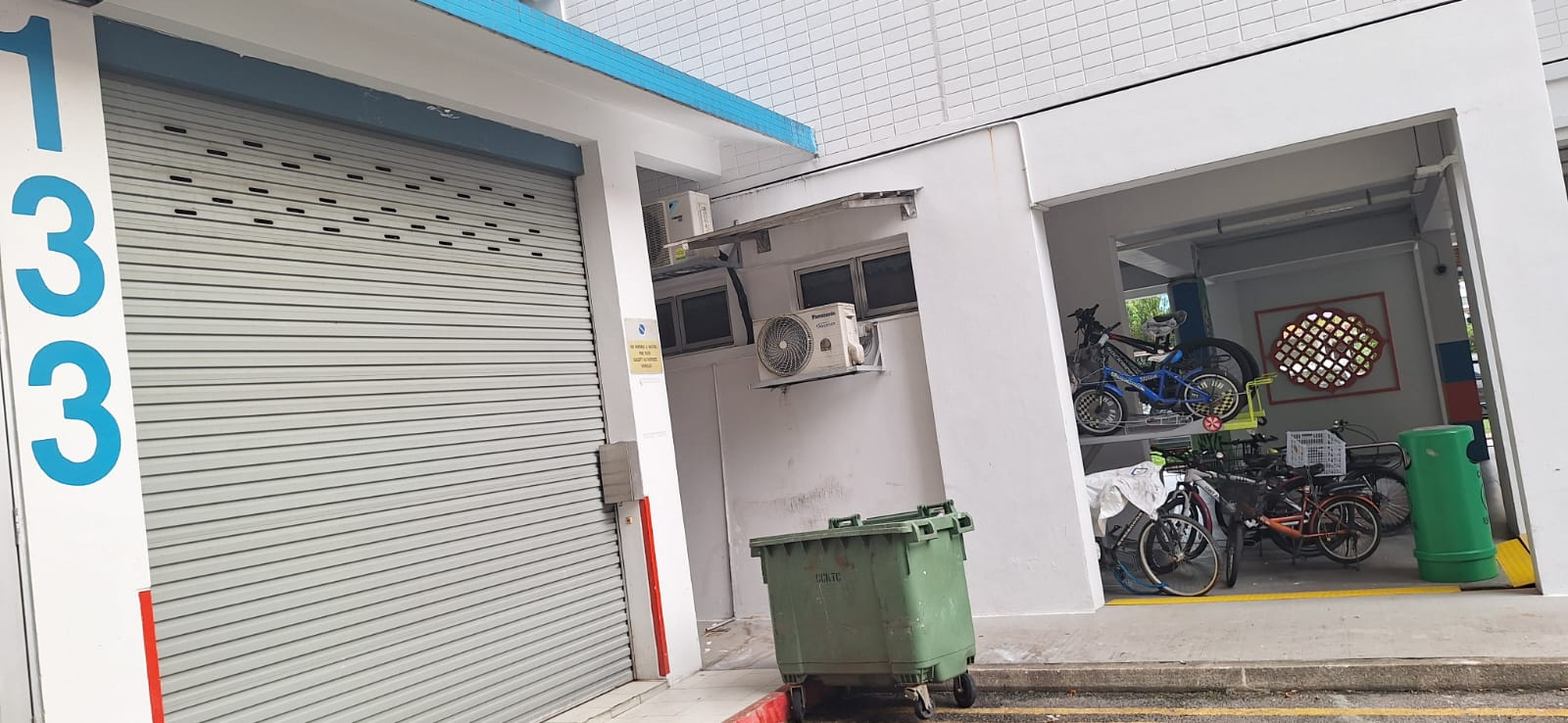bin_empty: (751, 499, 977, 722), (1398, 425, 1497, 582)
